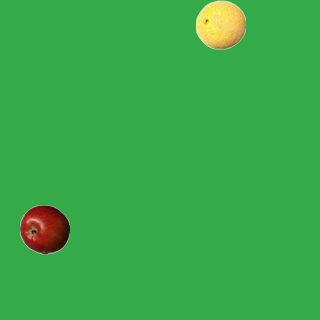Apple Braeburn: (19, 204, 69, 254)
Cantaloupe 1: (195, 0, 245, 49)
